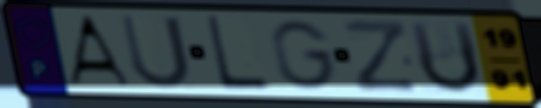A: (63, 14, 134, 89)
G: (268, 18, 340, 92)
L: (202, 14, 271, 93)
U: (406, 19, 485, 97), (116, 13, 194, 91)
Z: (340, 18, 422, 95)
